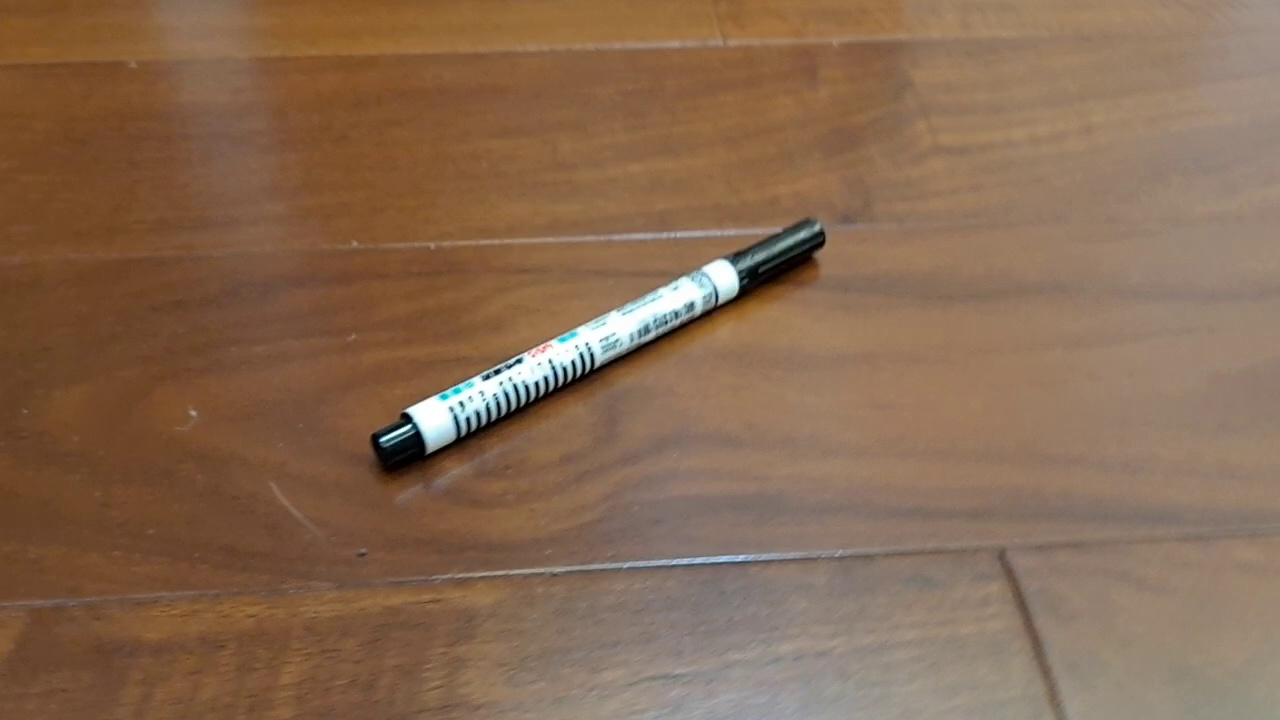pen: (370, 217, 826, 474)
